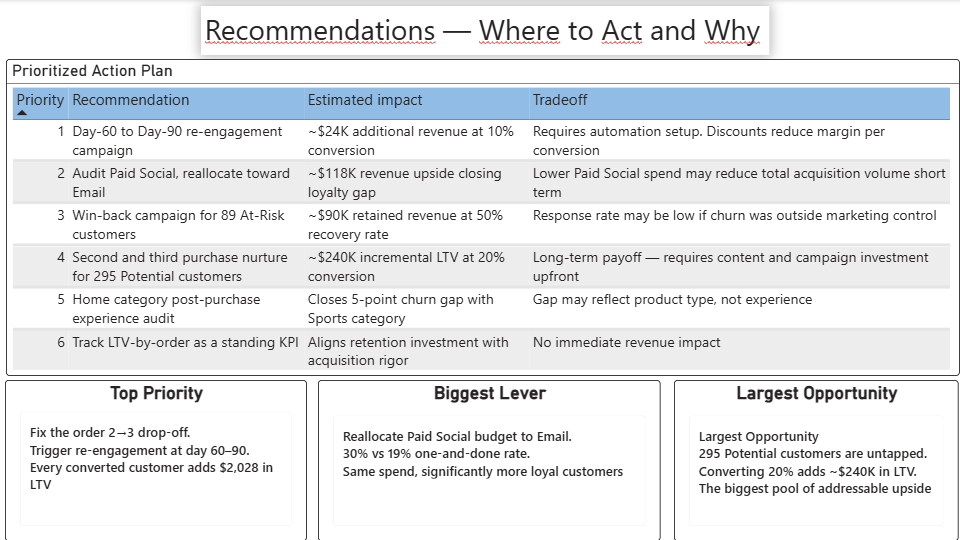

The dashboard page shown, as its layout file describes it:
{"tool":"powerbi","page":{"name":"Recommendations","canvas":[1280,720],"ordinal":5},"visuals":[{"type":"textbox","box":[10.1,0,870.1,75.6],"z":0},{"type":"tableEx","title":"Prioritized Action Plan","fields":{"Values":["Sum(Recommendations.Priority)","Recommendations.Recommendation","Recommendations.Estimated impact","Recommendations.Tradeoff"]},"box":[10.5,74.7,1266.7,421.2],"z":1000},{"type":"cardVisual","title":"Top Priority","fields":{"Data":["Recommendations.Card 1"]},"box":[9.8,505.8,401,214.4],"z":2000},{"type":"cardVisual","title":"Biggest Lever","fields":{"Data":["Recommendations.Card 2"]},"box":[425.6,505.8,455,214.4],"z":3000},{"type":"cardVisual","title":"Largest Opportunity","fields":{"Data":["Recommendations.card 3"]},"box":[898.6,505.8,378.1,214.4],"z":4000}]}

Visuals, with their boxes in screenshot pixels (x1, y1, x2, y2), scaled from the page's 1280x720 canvas onto the 960x540 screenshot:
textbox: 8,0,660,57
"Prioritized Action Plan" tableEx: 8,56,958,372
"Top Priority" cardVisual: 7,379,308,539
"Biggest Lever" cardVisual: 319,379,660,539
"Largest Opportunity" cardVisual: 674,379,958,539
